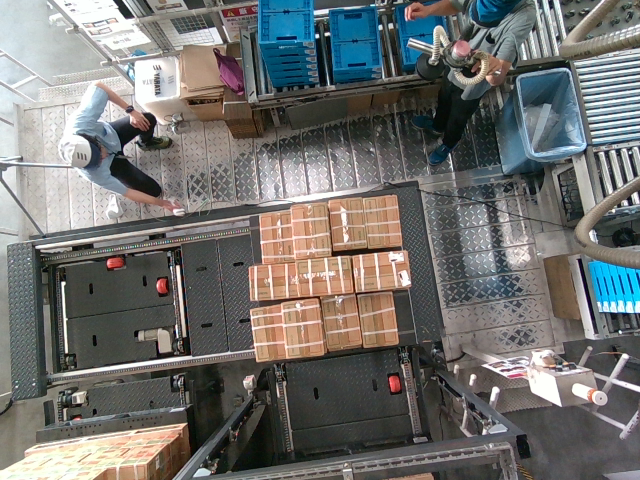box: (287, 202, 330, 258), (324, 196, 367, 252), (356, 192, 399, 248), (282, 301, 325, 357), (351, 253, 413, 289), (295, 259, 352, 295), (359, 291, 397, 343)
